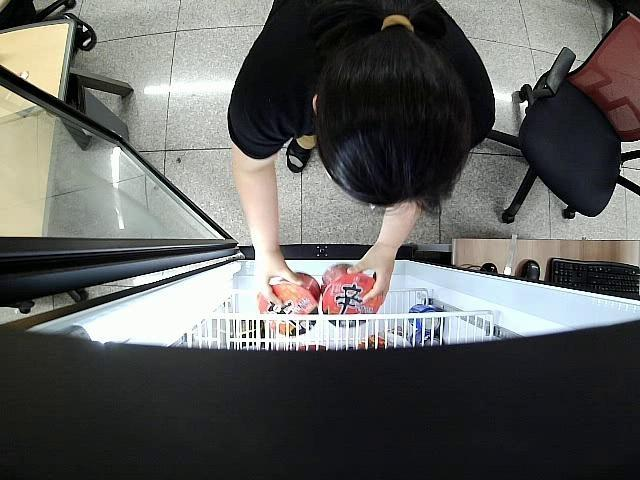01_ShinRamen_L: (258, 273, 320, 338), (320, 262, 381, 326)
